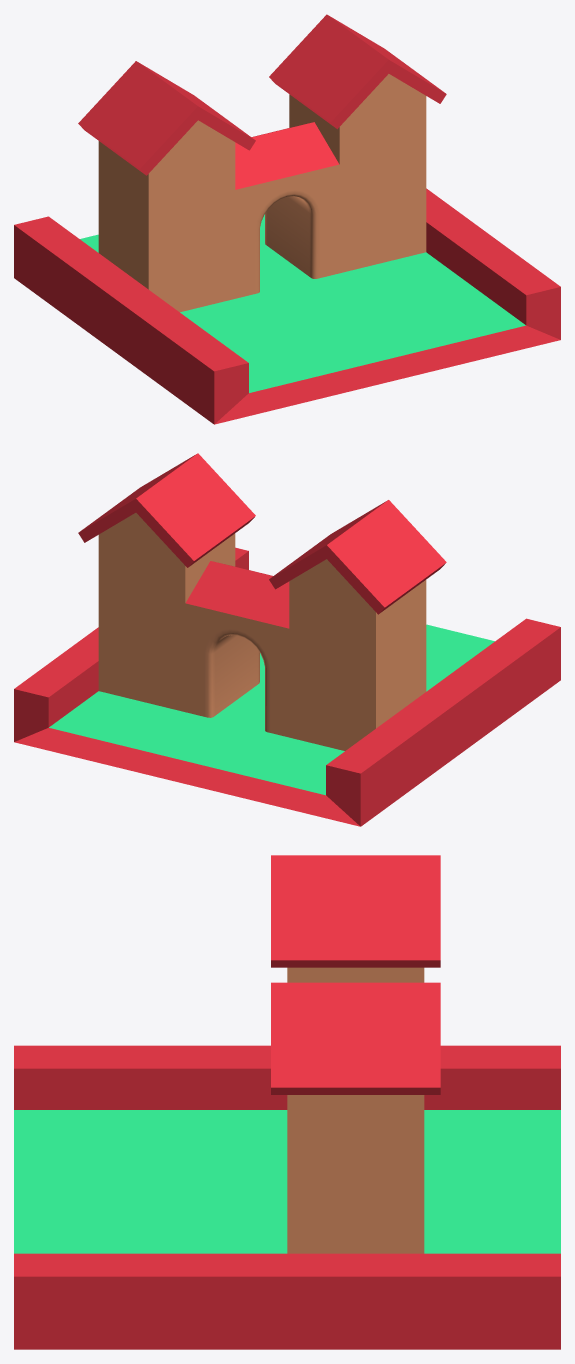
The model's file is castle.fbx.
3 renders of one model, top to bottom at view 1: azimuth 30°, elevation 25°; view 2: azimuth 150°, elevation 25°; view 3: azimuth 270°, elevation 25°, orthographic. The views are drawn at different scales.
Parts seen in each view (by area): view 1: castle; view 2: castle; view 3: castle.
Boxes of the visible parts, x1=… form: castle: x1=14, y1=14, x2=560, y2=424; castle: x1=14, y1=453, x2=560, y2=826; castle: x1=14, y1=855, x2=560, y2=1349.
Size of the model in its own units: 99.99 by 99.99 by 63.5.
